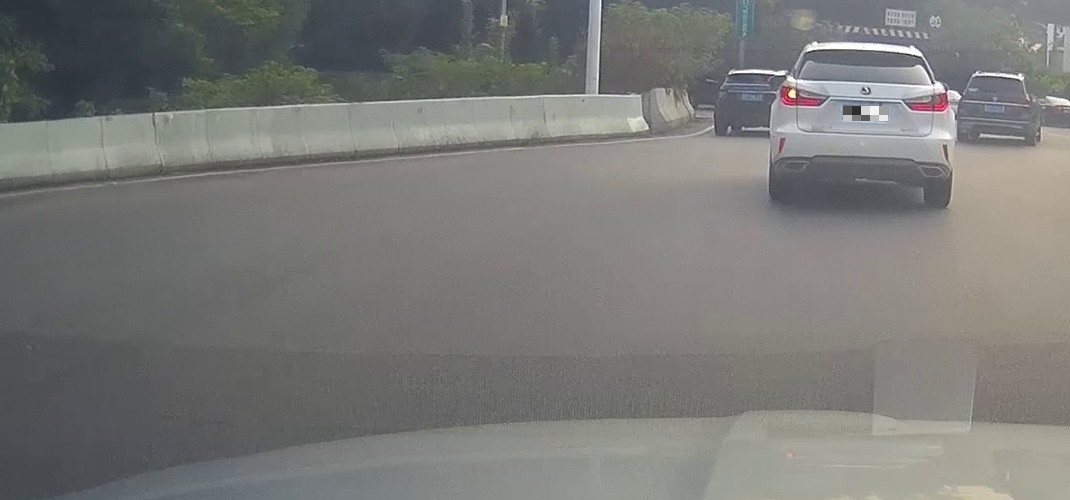L_light: (780, 85, 830, 107)
R_light: (901, 92, 949, 112)
T_light: (854, 52, 876, 56)
day-left: (770, 44, 955, 207)
plate_1: (843, 106, 888, 121)
